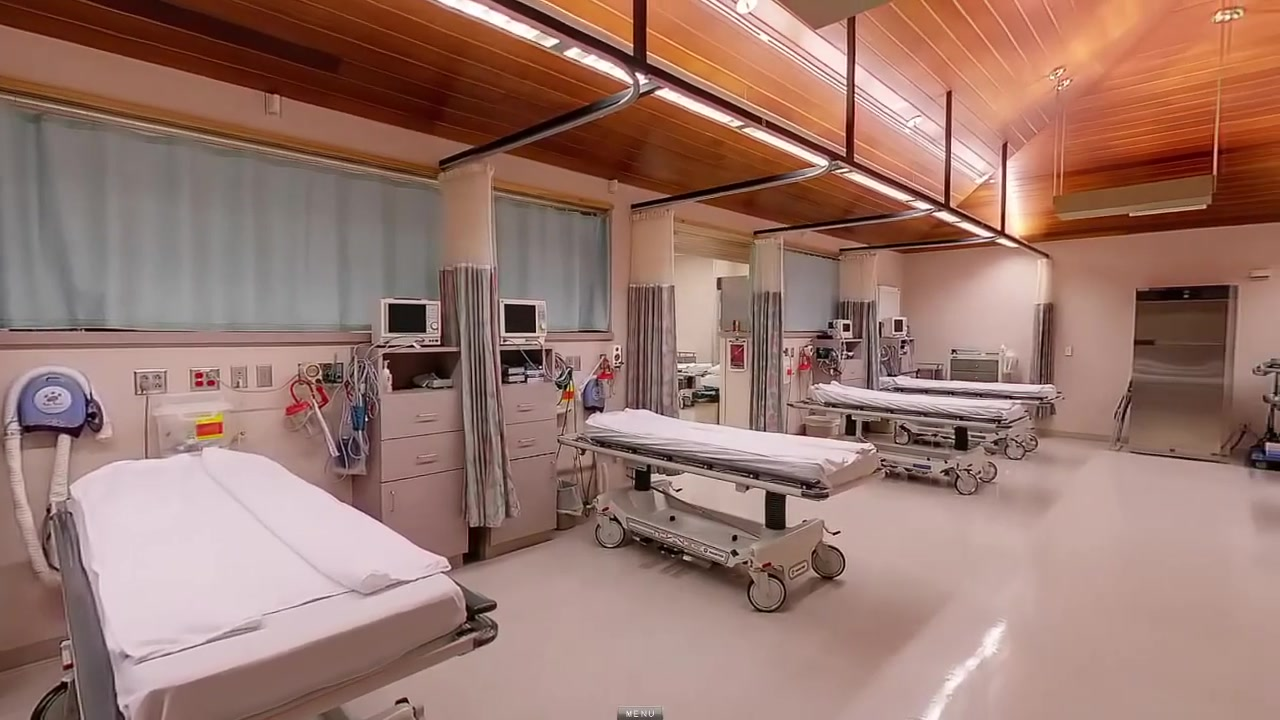bedside_monitor: (379, 298, 442, 347), (499, 298, 547, 346), (835, 320, 853, 338), (890, 318, 907, 335)
curtain: (436, 163, 520, 526), (623, 209, 685, 477), (751, 235, 790, 435), (838, 252, 879, 391), (1028, 256, 1057, 421)
handle: (416, 451, 439, 463), (387, 489, 396, 514), (517, 401, 536, 410), (416, 412, 439, 419), (518, 437, 538, 445), (549, 459, 556, 481), (971, 364, 984, 368), (972, 375, 982, 380)
hospital_bed: (30, 446, 499, 720), (559, 408, 887, 613), (785, 379, 1031, 495), (878, 374, 1064, 460)
medical_drawer: (349, 345, 466, 566), (485, 339, 564, 555), (946, 352, 1013, 426)
waste_bin: (555, 477, 583, 530), (803, 416, 840, 437)
